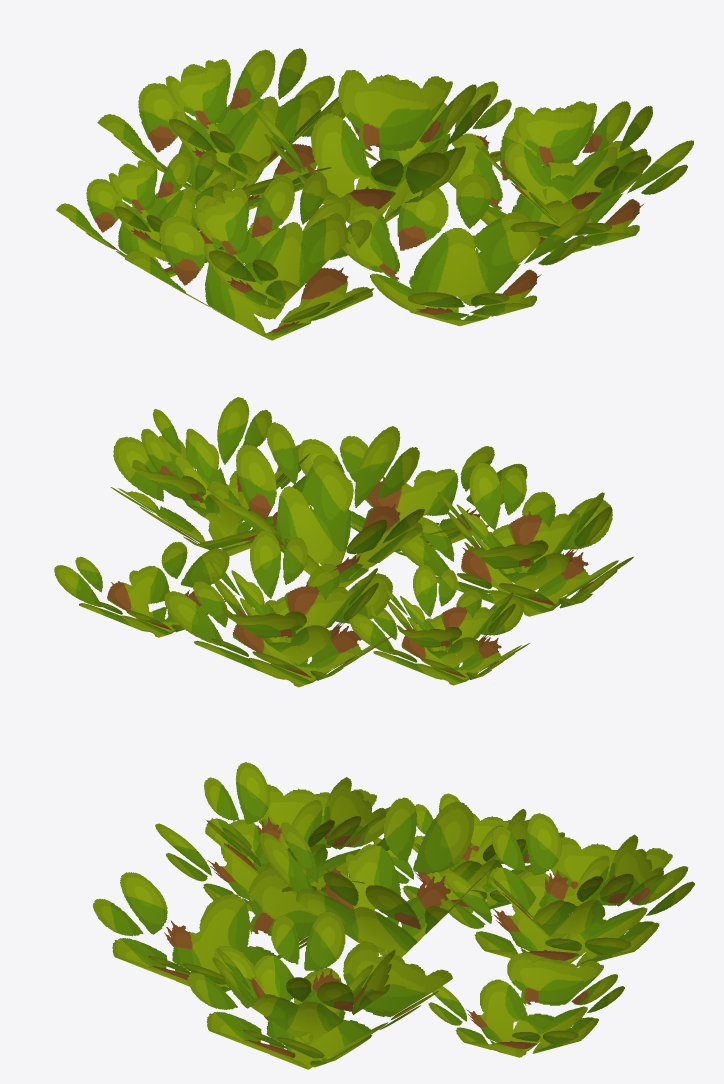
Rendered from Pwillow_preview_3DS_simplified.glb.
3 renders of one model, top to bottom at view 1: azimuth 30°, elevation 25°; view 2: azimuth 150°, elevation 25°; view 3: azimuth 270°, elevation 25°, orthographic. The views are drawn at different scales.
Parts seen in each view (by area): view 1: Marine Park Empire model; view 2: Marine Park Empire model; view 3: Marine Park Empire model.
Boxes of the visible parts, x1,y1,x2,y2 form: Marine Park Empire model: (56,48,693,340); Marine Park Empire model: (54,397,633,687); Marine Park Empire model: (93,762,694,1069).
Bounding box in the file's own units: 128 × 34.89 × 123.
1 material, 1 textured.
